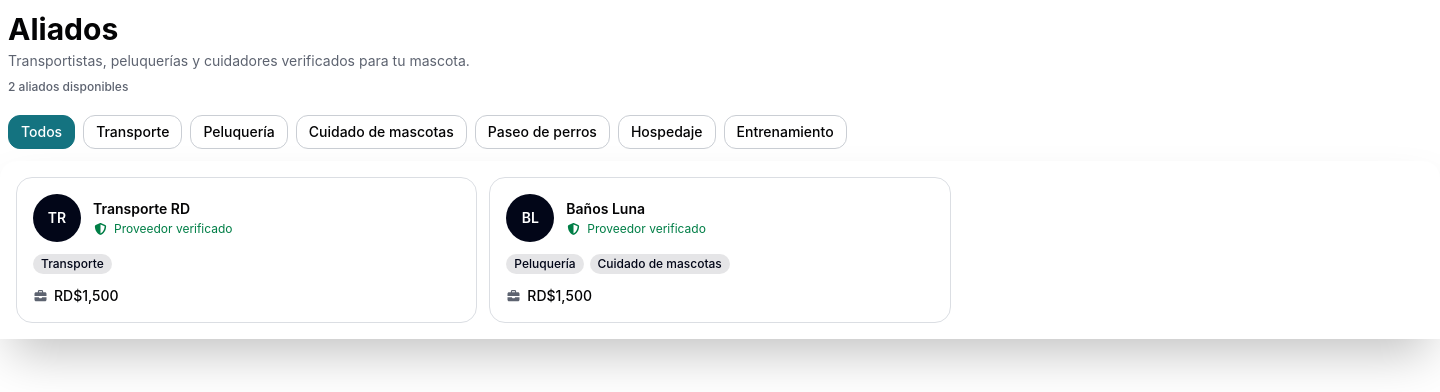
Scenario: ProviderGrid › filters the grid when a service pill is pressed
Expected: the heading "Transporte RD" is shown, [93, 200, 190, 217]
Expected: the heading "Baños Luna" is shown, [566, 200, 645, 217]
Click the button "Peluquería". click: (239, 132)
box: [190, 115, 288, 149]
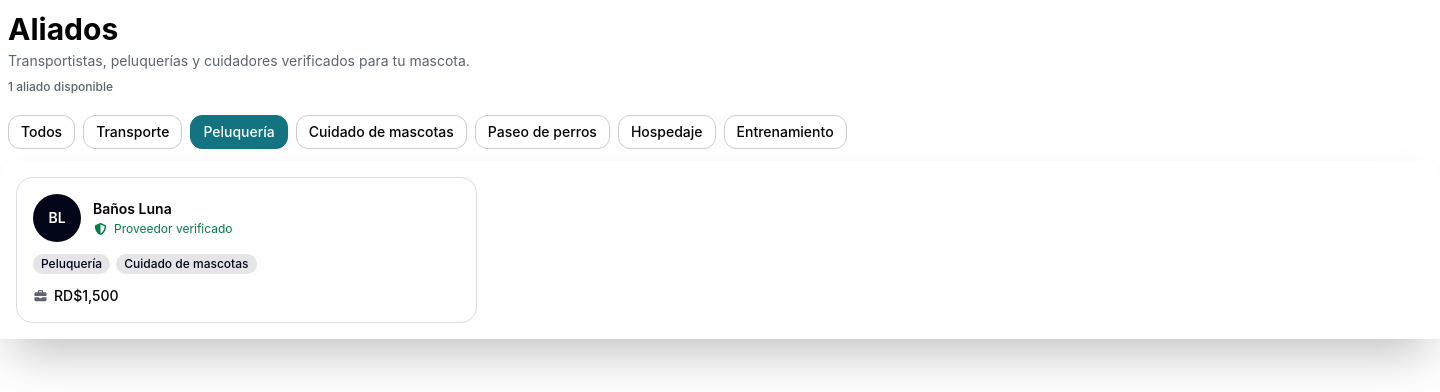
Expected: the heading "Baños Luna" is shown, [93, 200, 172, 217]
Result: the button "Transporte RD" is gone
